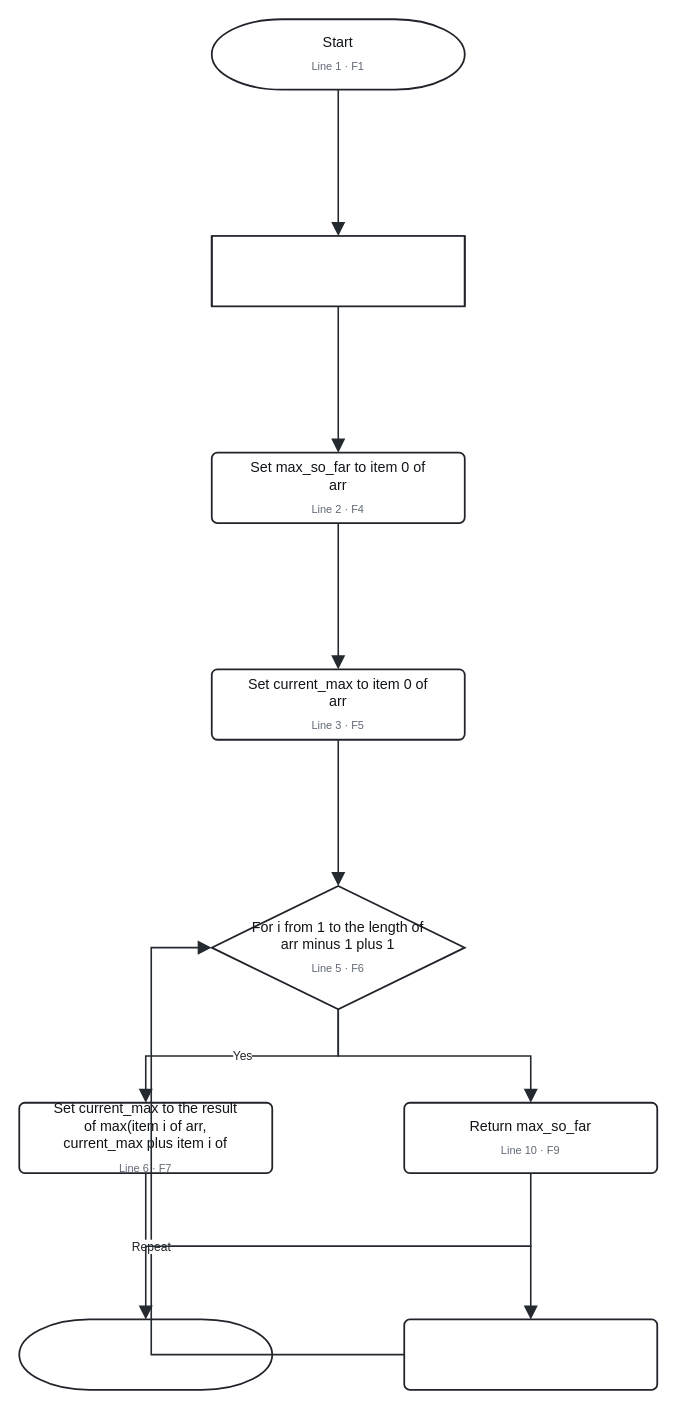
Image size: 678x1412. Some labels were removed from this diagram. Here are the shapes that lost their labels. From the top down, the box of each, then its label:
(210, 235, 465, 307): Run function MaxSubarraySum with arr Line 1 · F3
(18, 1318, 273, 1390): End Line 1 · F2
(403, 1318, 658, 1390): Set max_so_far to the result of max(max_so_far, current_max) Line 7 · F8
